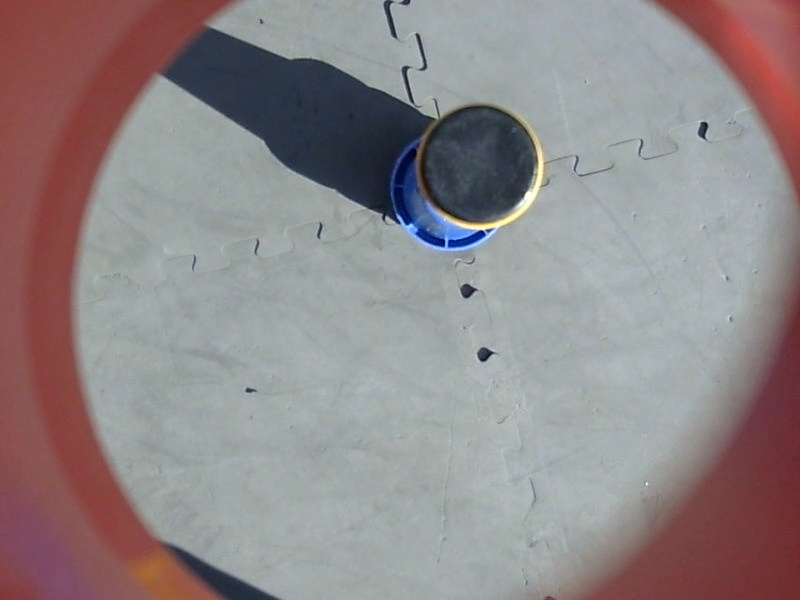tip: (411, 100, 548, 234)
